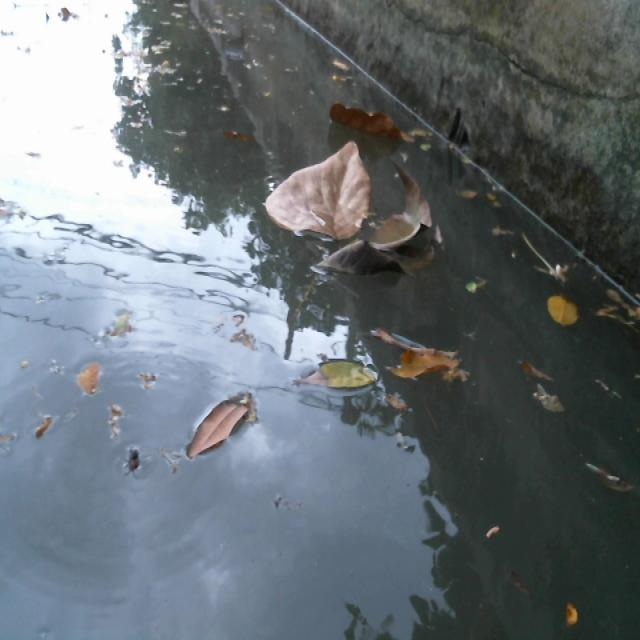Big-leaf: (352, 160, 455, 278), (268, 143, 369, 245), (330, 89, 431, 149), (387, 326, 468, 399)
Small-leaf: (189, 372, 257, 467), (282, 350, 385, 400), (524, 368, 571, 436), (583, 457, 640, 506), (541, 289, 579, 344), (568, 597, 598, 638)
